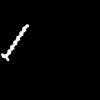half_double_crochet: (1, 25, 28, 60)
